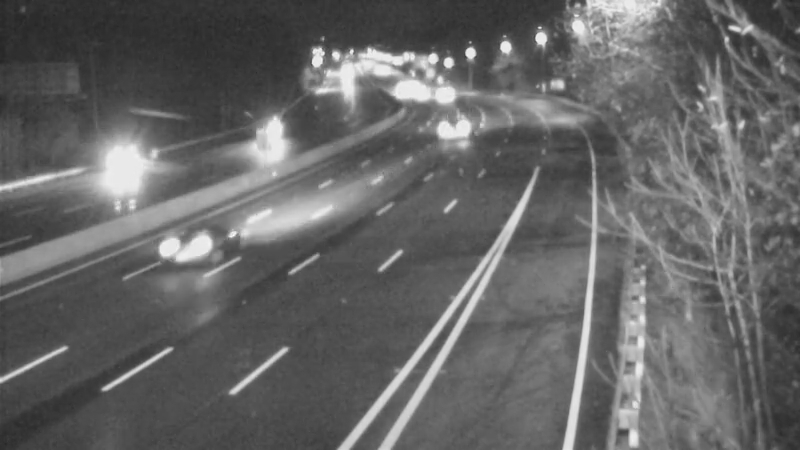vehicle: (147, 207, 227, 287), (84, 121, 164, 201), (417, 71, 467, 121), (429, 104, 479, 154), (248, 109, 298, 159)
